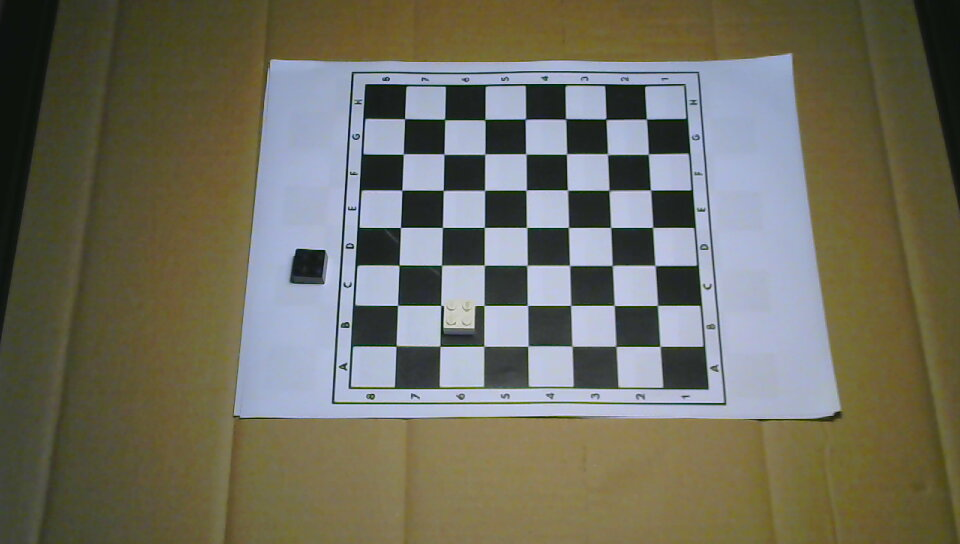bp: (289, 248, 328, 285)
wp: (443, 299, 475, 336)
